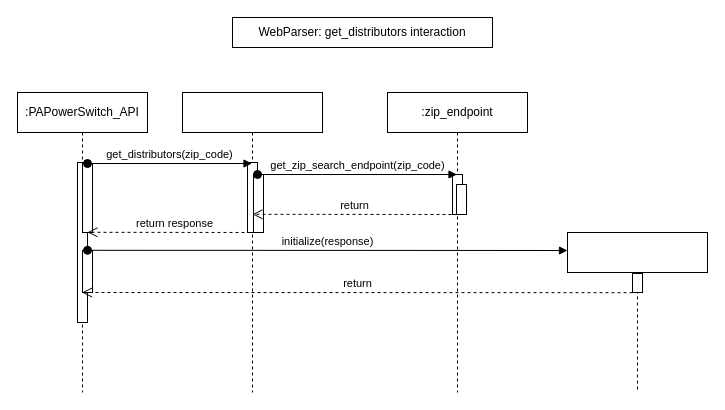
This 725x410 diagram has some shape labels left out. Each missing label, with the box of its shape:
:API_Core: (182, 92, 322, 392)
:distributor: (566, 232, 708, 392)
